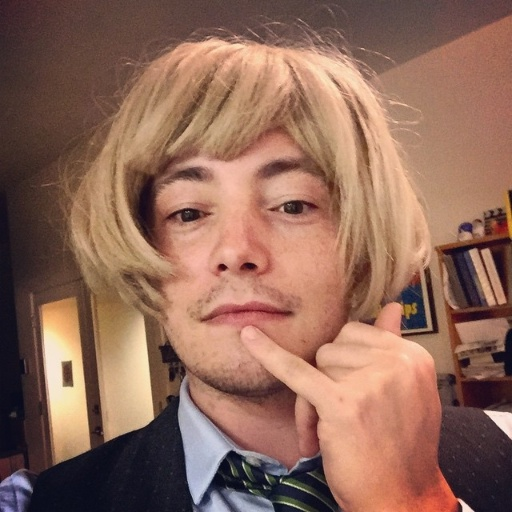hand: (291, 303, 447, 500)
